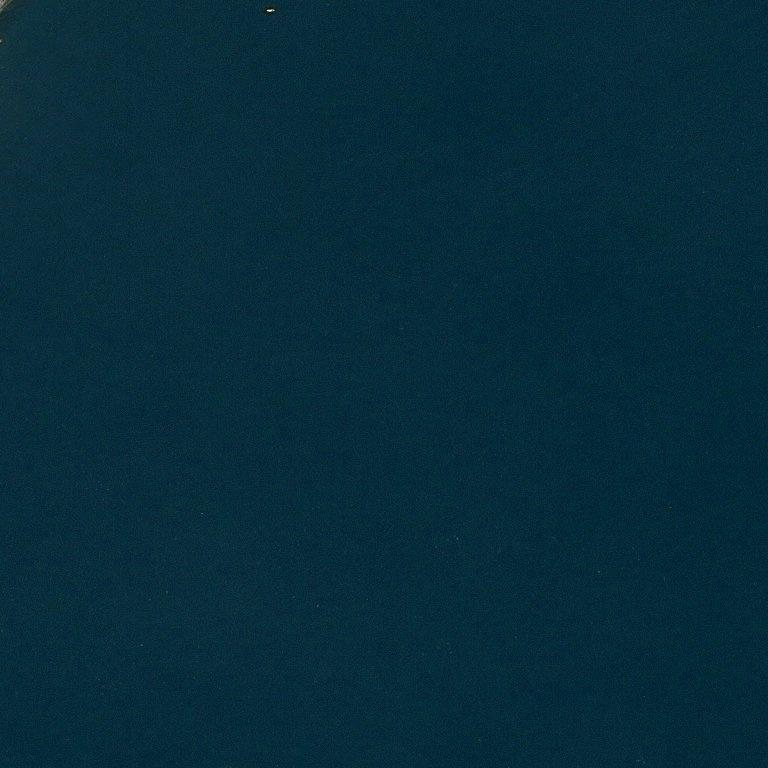ship: (269, 0, 272, 5), (274, 9, 276, 12), (266, 7, 267, 9), (36, 11, 37, 12)
